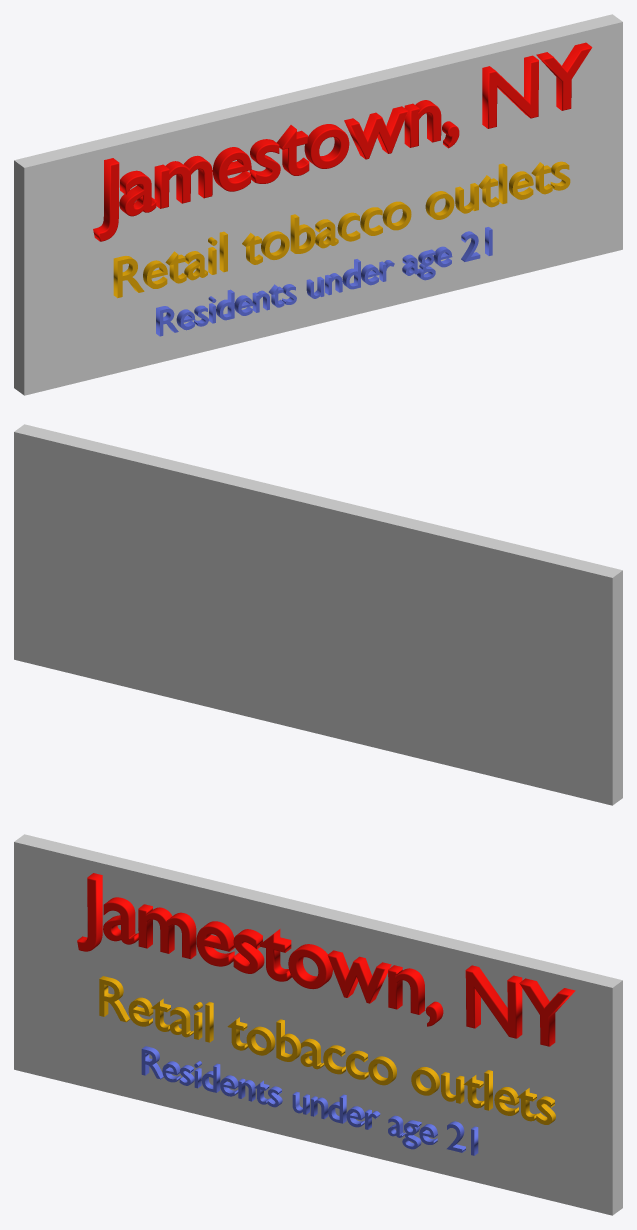
File: Jamestown.glb
The picture shows the model from 3 angles, top to bottom: view 1: azimuth 30°, elevation 25°; view 2: azimuth 150°, elevation 25°; view 3: azimuth 330°, elevation 25°; orthographic projection.
Parts seen in each view (by area): view 1: Cube; view 2: Cube; view 3: Cube.
Part boxes in pixels (bbox=[...]): Cube: bbox=[14, 14, 622, 395]; Cube: bbox=[14, 424, 622, 805]; Cube: bbox=[14, 834, 622, 1215].
Size of the model in its own units: 6.6 by 2.4 by 0.3256.
